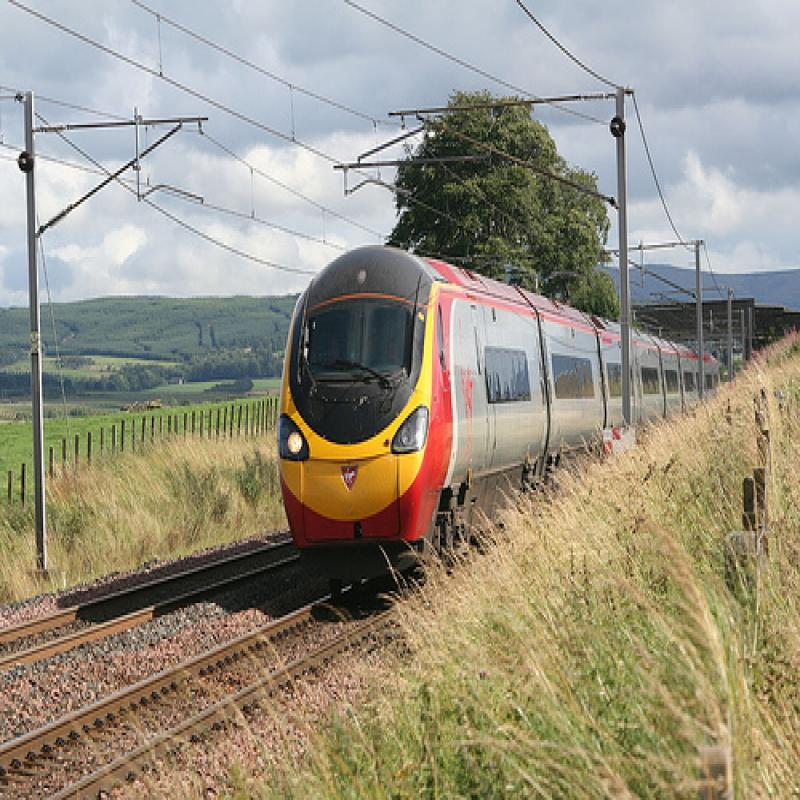train: (278, 249, 729, 583)
